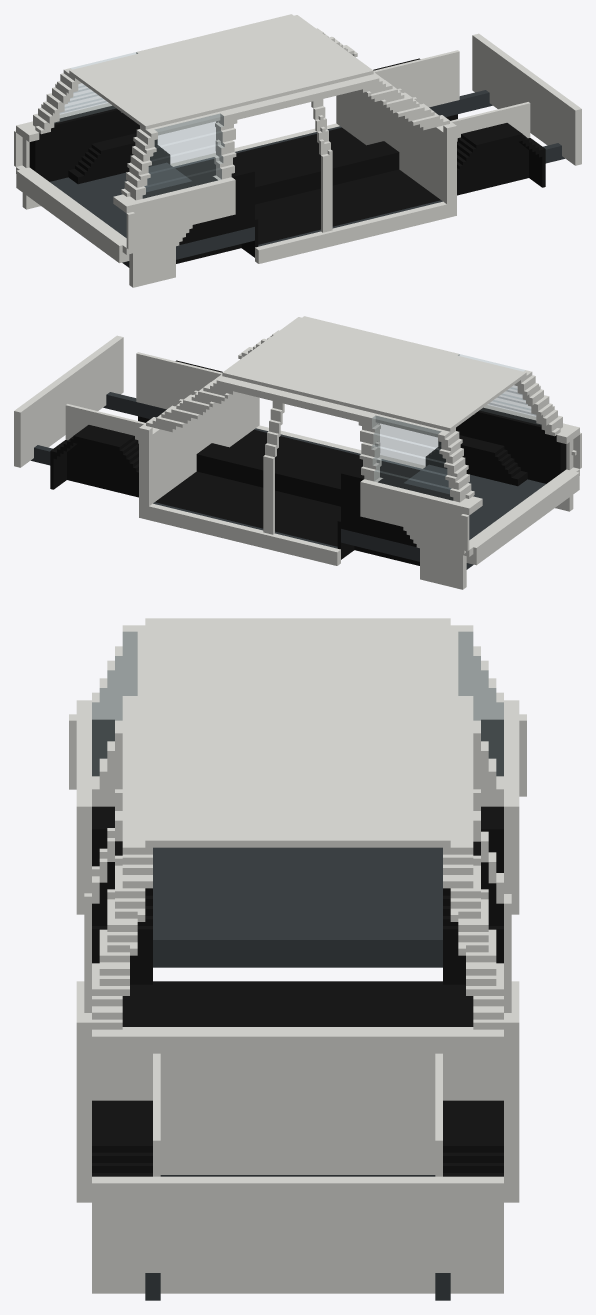
Rendered from electric_crossover_shell.glb.
3 views of the same model, one above another, from view 1: azimuth 30°, elevation 25°; view 2: azimuth 150°, elevation 25°; view 3: azimuth 270°, elevation 25° (orthographic). The views are drawn at different scales.
Visible parts, largest first — view 1: body:compound; view 2: body:compound; view 3: body:compound.
Part boxes in pixels (x1=…): body:compound: x1=14, y1=14, x2=581, y2=287; body:compound: x1=14, y1=316, x2=581, y2=589; body:compound: x1=69, y1=618, x2=526, y2=1300.
Bounding box in the file's own units: 4.38 × 1.34 × 1.88.
